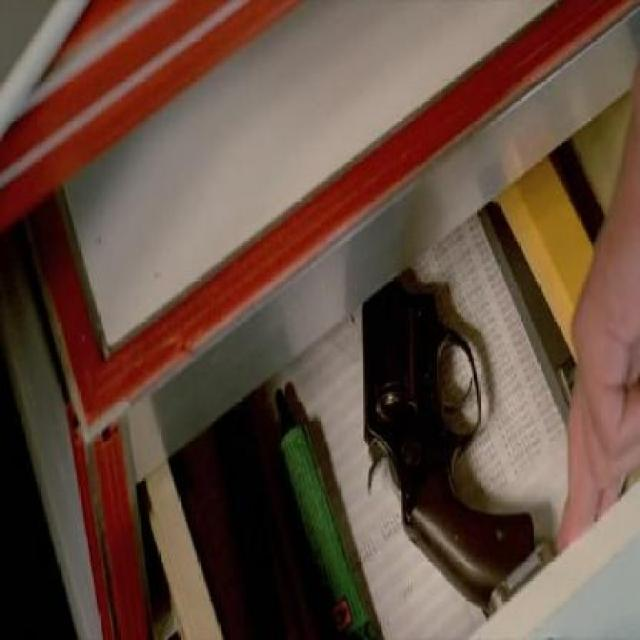gun: (360, 293, 542, 615)
